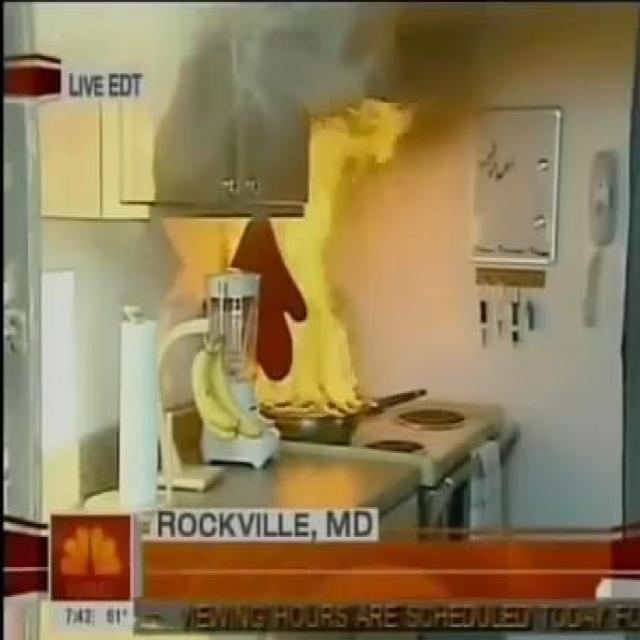fire: (5, 3, 222, 142), (228, 2, 394, 124)
smoke: (246, 108, 408, 414)
